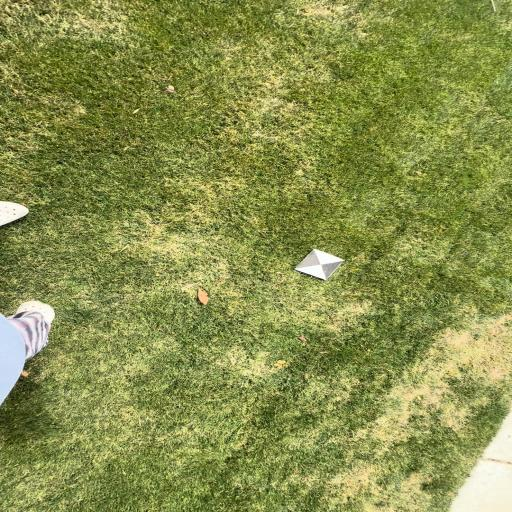target: (295, 249, 344, 280)
